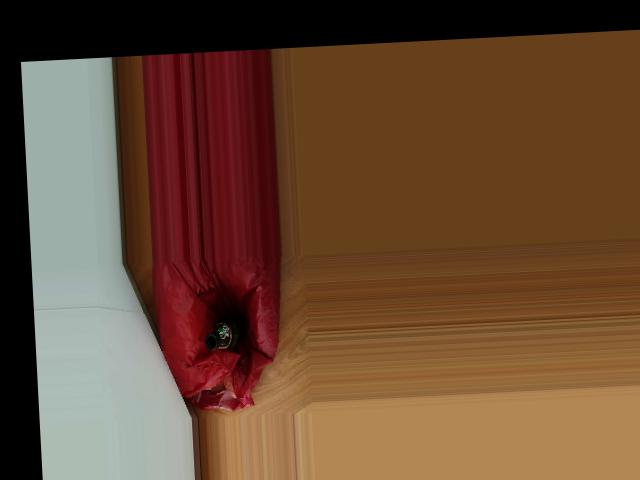beer: (204, 314, 248, 350)
